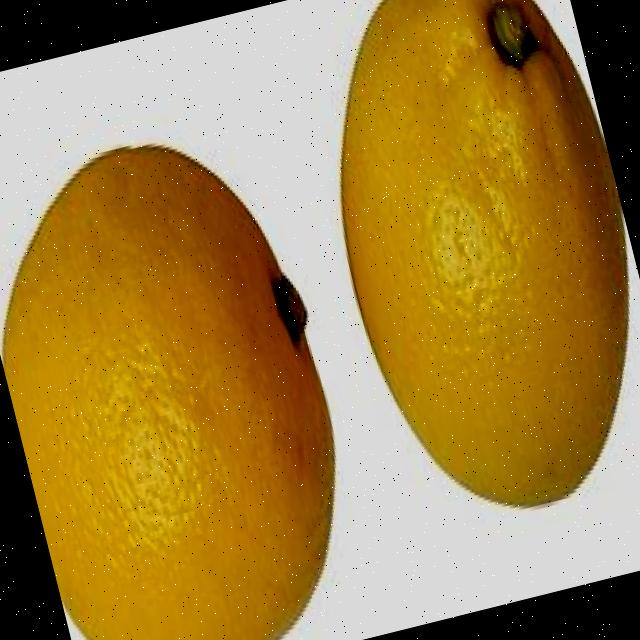Lemon: (0, 101, 386, 640), (279, 0, 640, 542)
